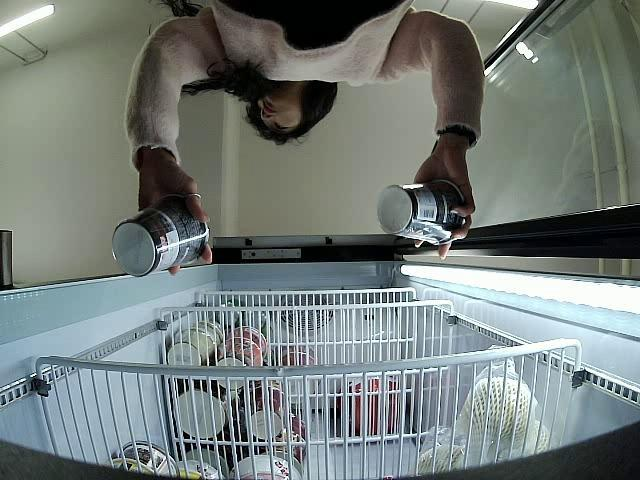08_buldak_S: (112, 193, 210, 278), (376, 179, 469, 246)
